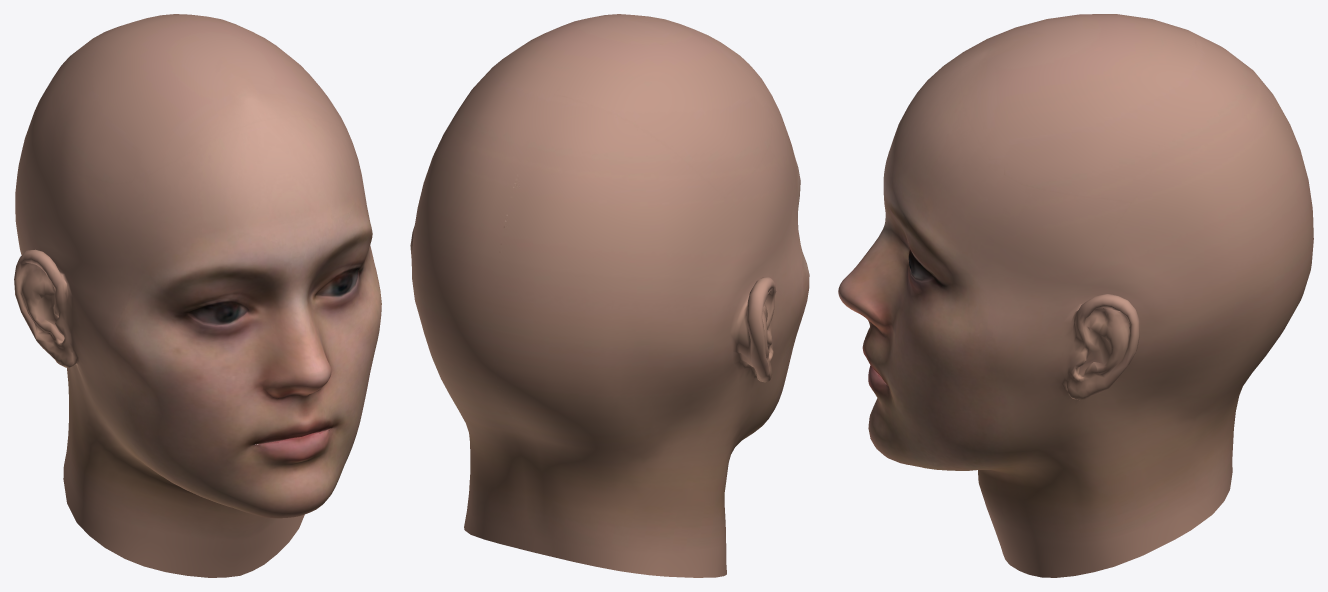
The picture shows the model from 3 angles, left to right: view 1: azimuth 30°, elevation 25°; view 2: azimuth 150°, elevation 25°; view 3: azimuth 270°, elevation 25°; orthographic projection. The views are drawn at different scales.
Parts seen in each view (by area): view 1: HeadHires; view 2: HeadHires; view 3: HeadHires.
Boxes of the visible parts, x1=… form: HeadHires: x1=14, y1=14, x2=381, y2=577; HeadHires: x1=410, y1=14, x2=809, y2=577; HeadHires: x1=838, y1=14, x2=1313, y2=577.
Bounding box in the file's own units: 190 × 283 × 233.
1 material, 1 textured.
